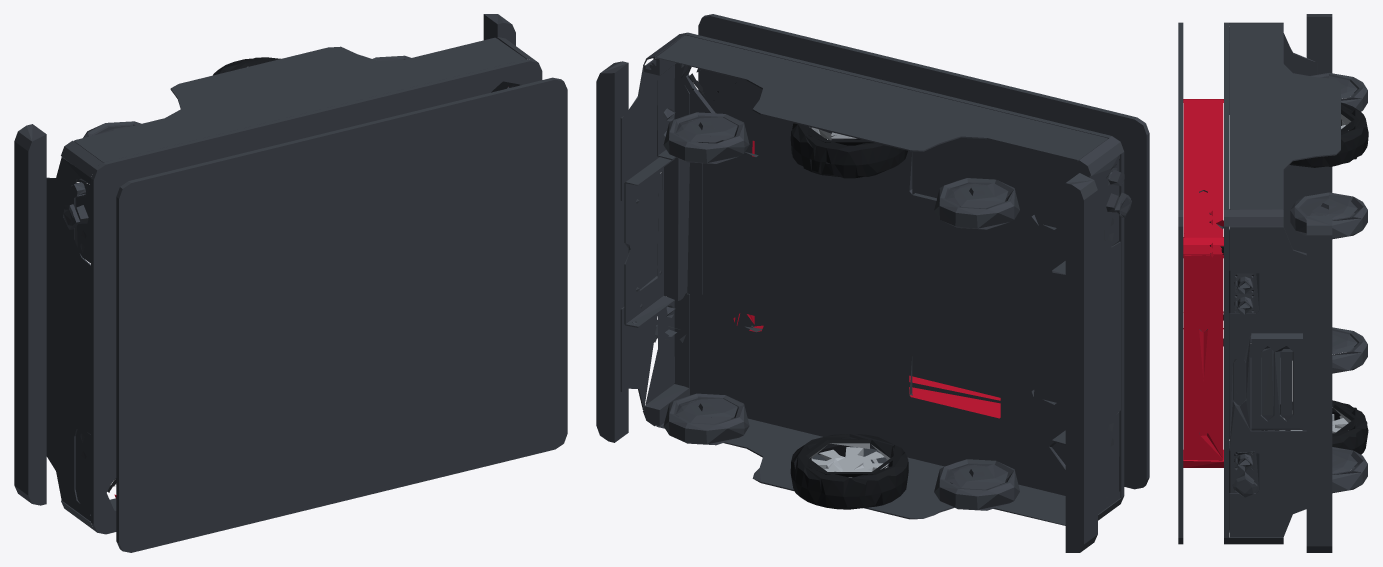
The model's file is tetra-mh.glb.
The picture shows the model from 3 angles, left to right: view 1: azimuth 30°, elevation 25°; view 2: azimuth 150°, elevation 25°; view 3: azimuth 270°, elevation 25°; orthographic projection. The views are drawn at different scales.
Visible parts, largest first — view 1: body; view 2: body, wheel, band, rim; view 3: body, band, wheel, rim.
Boxes of the visible parts, box(x1,y1,x2,y2) form: body: box(14, 14, 567, 552); body: box(596, 14, 1149, 552); wheel: box(790, 123, 908, 509); band: box(733, 140, 1000, 418); rim: box(809, 126, 890, 477); body: box(1178, 14, 1367, 552); band: box(1183, 99, 1223, 467); wheel: box(1261, 102, 1368, 454); rim: box(1279, 114, 1351, 433).
Size of the model in its own units: 0.8 by 0.58 by 0.3.
